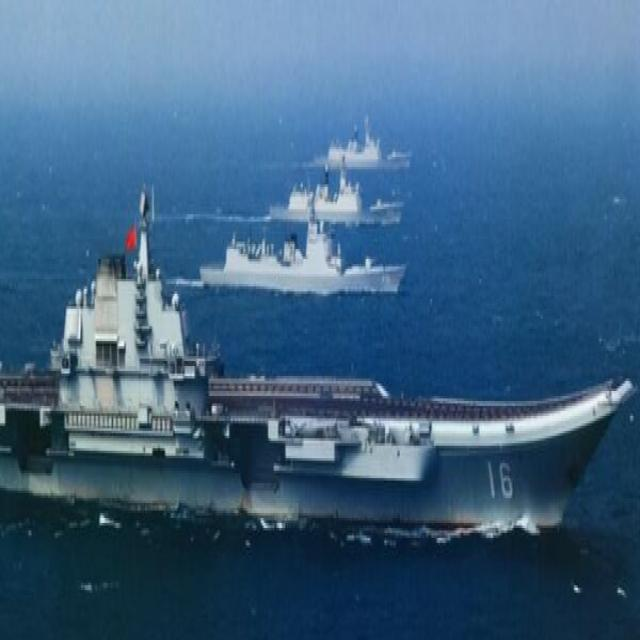navalvessels: (19, 195, 626, 592), (211, 202, 397, 300), (315, 110, 402, 193), (281, 156, 387, 222)
